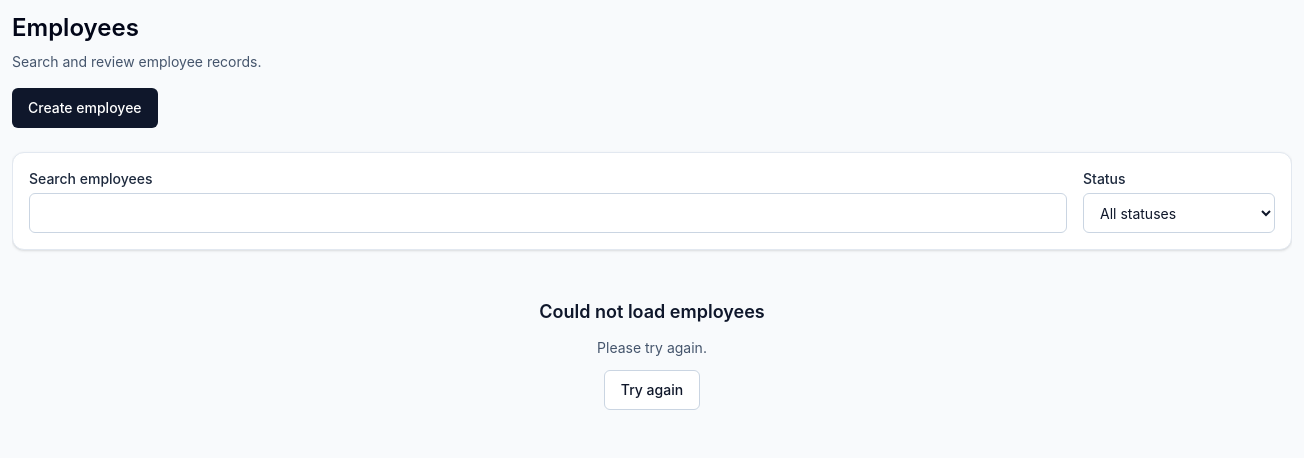
Test: EmployeeManagementPage › shows a retryable error
Expected: the message shows "Could not load employees", [539,301,765,322]
Click the button "Try again". click: (652, 390)
box: [604,370,700,410]
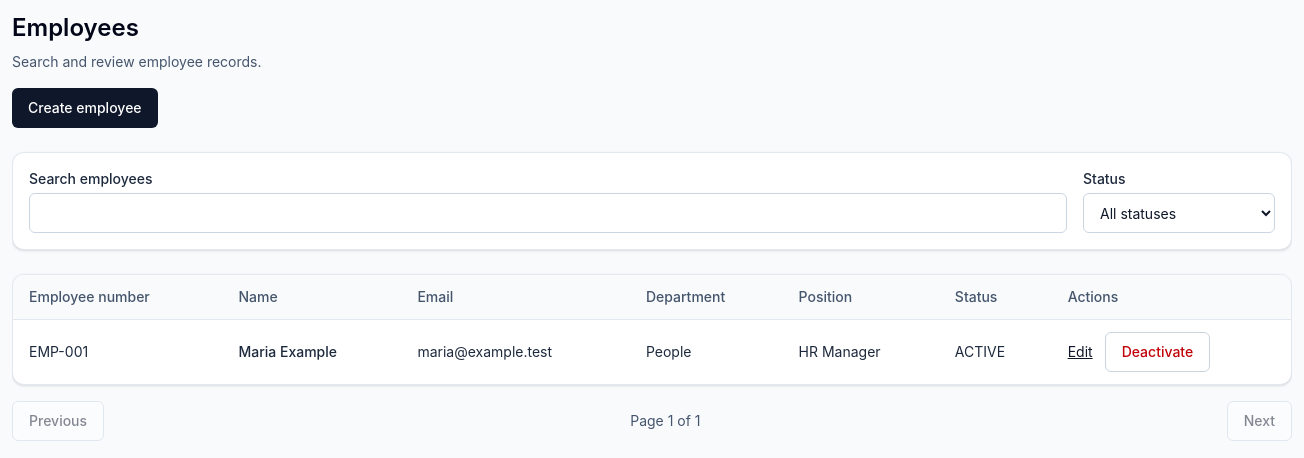
Expected: the row "EMP-001 Maria Example" is shown, [13,320,1291,384]
